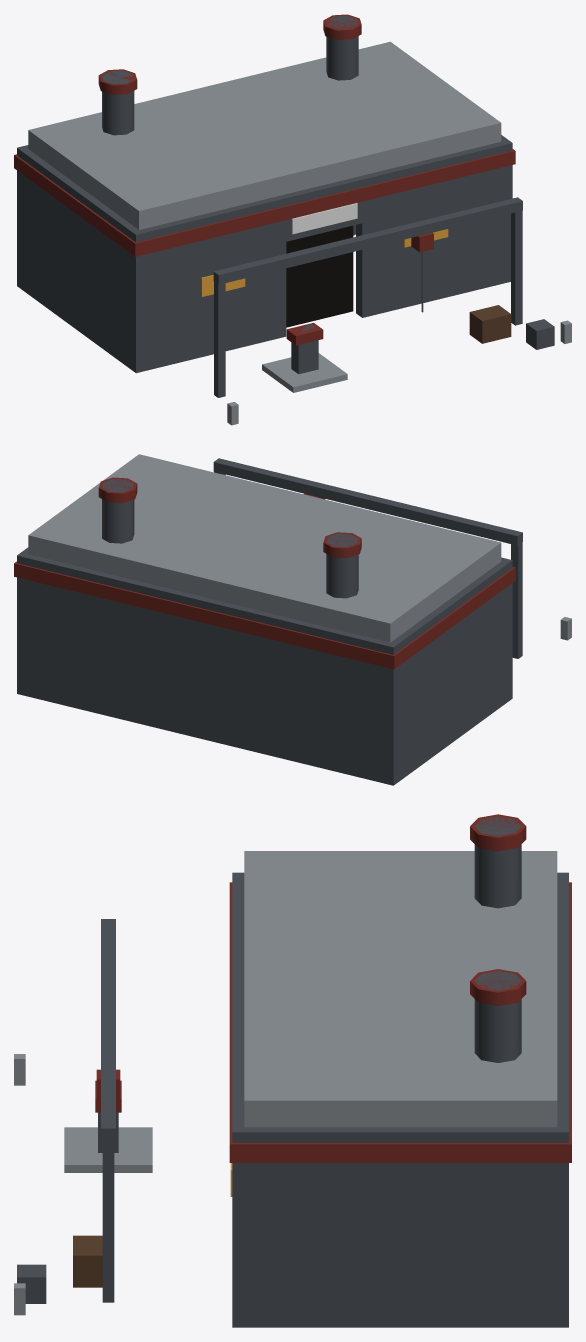
The picture shows the model from 3 angles, top to bottom: view 1: azimuth 30°, elevation 25°; view 2: azimuth 150°, elevation 25°; view 3: azimuth 270°, elevation 25°; orthographic projection. The views are drawn at different scales.
Visible parts, largest first — view 1: garde_building_forge; view 2: garde_building_forge; view 3: garde_building_forge.
Boxes of the visible parts, left/top/right/bottom form: garde_building_forge: left=14, top=14, right=571, bottom=425; garde_building_forge: left=14, top=454, right=571, bottom=785; garde_building_forge: left=14, top=814, right=571, bottom=1327.
Bounding box in the file's own units: 21 × 11 × 18.9.
